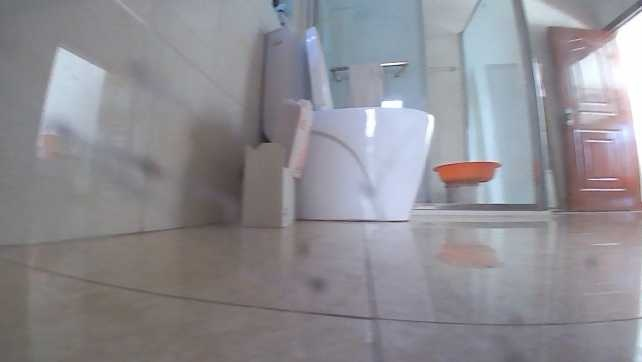toilet: (254, 22, 437, 226)
